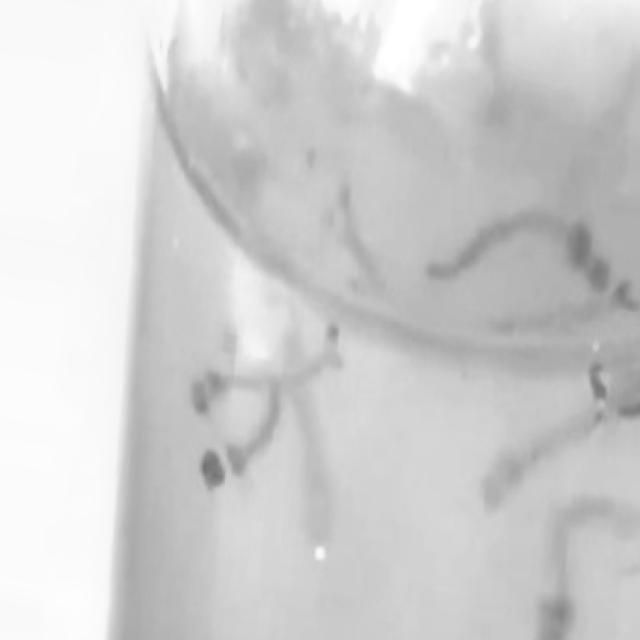larvas: (182, 312, 360, 423), (425, 215, 616, 285), (487, 391, 613, 495), (543, 494, 619, 634), (202, 401, 280, 484), (506, 298, 636, 340)
